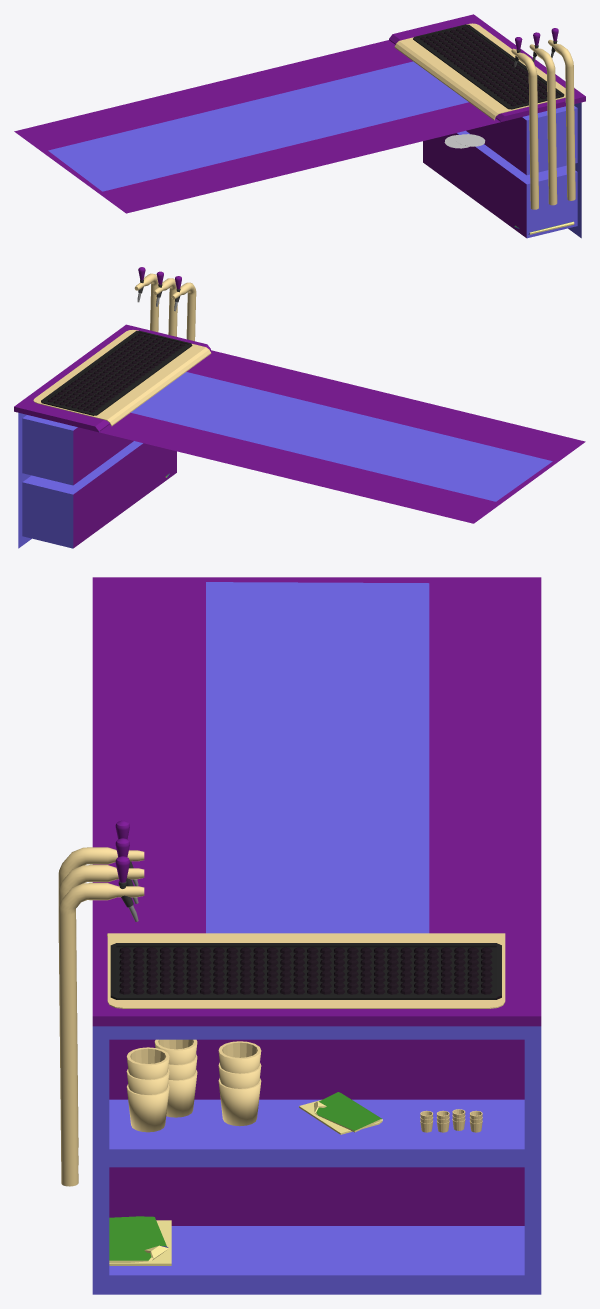
File: Table_violet.FBX
3 views of the same model, one above another, from view 1: azimuth 30°, elevation 25°; view 2: azimuth 150°, elevation 25°; view 3: azimuth 270°, elevation 25° (orthographic). The views are drawn at different scales.
Visible parts, largest first — view 1: stol, bigpodstavka, skatert, kran.000, kran.002, kran.001, Podstavkapodkrygky.002; view 2: stol, bigpodstavka, skatert, kran.001, kran.002, kran.000; view 3: stol, bigpodstavka, skatert, kran.002, Cylinder.002, stakan, Plane.001, Cylinder.001, tryapka, kran.000, kran.001.
Boxes of the visible parts, x1=… form: stol: x1=14, y1=14, x2=585, y2=238; bigpodstavka: x1=413, y1=24, x2=564, y2=109; skatert: x1=394, y1=23, x2=565, y2=120; kran.000: x1=529, y1=32, x2=557, y2=205; kran.002: x1=548, y1=28, x2=575, y2=200; kran.001: x1=511, y1=37, x2=538, y2=209; Podstavkapodkrygky.002: x1=455, y1=134, x2=485, y2=146; stol: x1=14, y1=324, x2=585, y2=548; bigpodstavka: x1=41, y1=330, x2=192, y2=415; skatert: x1=33, y1=330, x2=211, y2=426; kran.001: x1=171, y1=276, x2=196, y2=341; kran.002: x1=134, y1=267, x2=159, y2=332; kran.000: x1=153, y1=271, x2=177, y2=336; stol: x1=92, y1=577, x2=541, y2=1294; bigpodstavka: x1=110, y1=943, x2=501, y2=999; skatert: x1=107, y1=933, x2=505, y2=1008; kran.002: x1=58, y1=856, x2=144, y2=1186; Cylinder.002: x1=218, y1=1041, x2=261, y2=1126; stakan: x1=126, y1=1047, x2=169, y2=1132; Plane.001: x1=109, y1=1216, x2=171, y2=1265; Cylinder.001: x1=154, y1=1039, x2=197, y2=1117; tryapka: x1=299, y1=1092, x2=382, y2=1134; kran.000: x1=58, y1=838, x2=144, y2=1164; kran.001: x1=58, y1=820, x2=144, y2=1147.
Bounding box in the file's own units: 7065 × 3074 × 3214.
